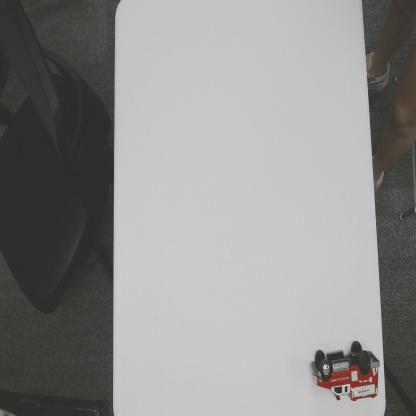Firetruck: (310, 339, 381, 403)
